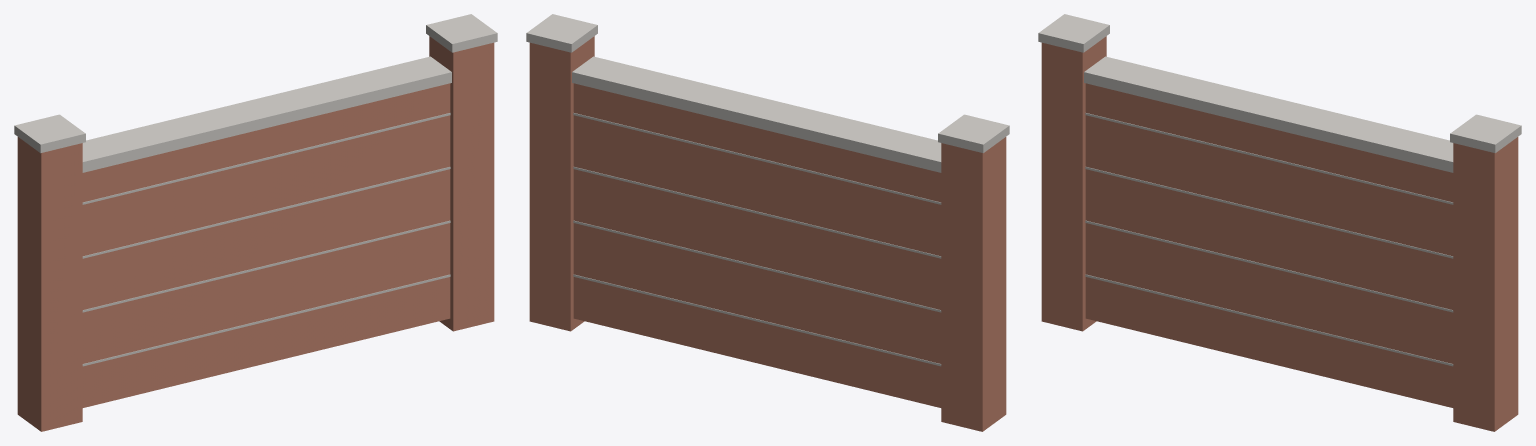
Rendered from brick_wall_segment.glb.
The picture shows the model from 3 angles, left to right: view 1: azimuth 30°, elevation 25°; view 2: azimuth 150°, elevation 25°; view 3: azimuth 330°, elevation 25°; orthographic projection.
Visible parts, largest first — view 1: wall_body, post_l, post_r, wall_cap, cap_l, cap_r, mortar_2, mortar_1, mortar_3, mortar_4; view 2: wall_body, post_l, post_r, wall_cap, cap_l, cap_r, mortar_2, mortar_1, mortar_3, mortar_4; view 3: wall_body, post_r, post_l, wall_cap, cap_l, cap_r, mortar_2, mortar_1, mortar_3, mortar_4.
Boxes of the visible parts, x1,y1,x2,y2 form: wall_body: (82, 83, 450, 407); post_l: (17, 137, 82, 431); post_r: (429, 36, 494, 331); wall_cap: (82, 56, 451, 172); cap_l: (14, 114, 85, 153); cap_r: (426, 14, 497, 52); mortar_2: (82, 220, 450, 312); mortar_1: (82, 274, 450, 366); mortar_3: (82, 167, 450, 258); mortar_4: (82, 113, 450, 204); wall_body: (573, 83, 941, 407); post_l: (941, 137, 1006, 431); post_r: (529, 36, 594, 331); wall_cap: (572, 56, 941, 172); cap_l: (938, 114, 1009, 153); cap_r: (526, 14, 597, 52); mortar_2: (573, 220, 941, 312); mortar_1: (573, 274, 941, 366); mortar_3: (573, 167, 941, 258); mortar_4: (573, 113, 941, 204); wall_body: (1085, 83, 1453, 407); post_r: (1453, 137, 1518, 431); post_l: (1041, 36, 1106, 331); wall_cap: (1084, 56, 1453, 172); cap_l: (1038, 14, 1109, 52); cap_r: (1450, 114, 1521, 153); mortar_2: (1085, 220, 1453, 312); mortar_1: (1085, 274, 1453, 366); mortar_3: (1085, 167, 1453, 258); mortar_4: (1085, 113, 1453, 204).
Size of the model in its own units: 2.22 by 1.34 by 0.22.
